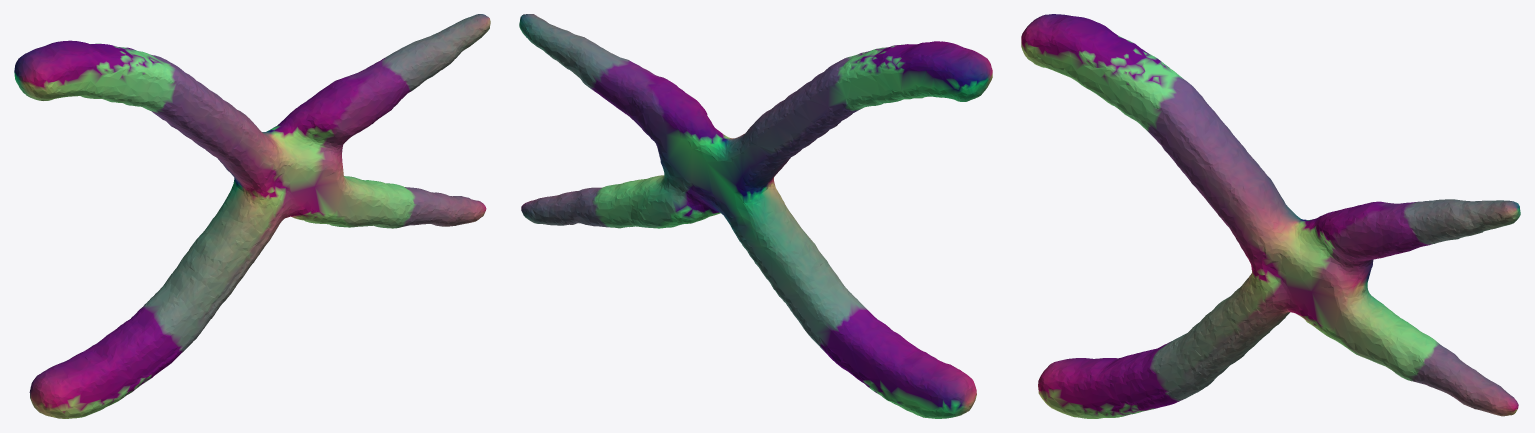
The model's file is pliers-2.off.obj.
3 views of the same model, side by side, from view 1: azimuth 30°, elevation 25°; view 2: azimuth 150°, elevation 25°; view 3: azimuth 330°, elevation 25° (orthographic). The views are drawn at different scales.
Bounding box in the file's own units: 1.55 × 1.16 × 0.1706.
